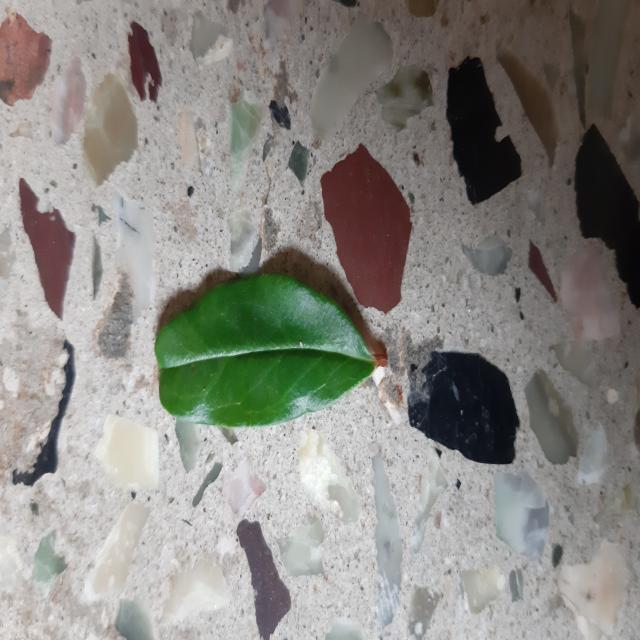pomgranate: (155, 276, 375, 429)
